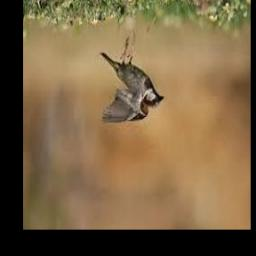Sparrow: (100, 32, 164, 123)
